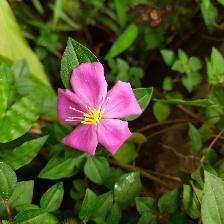malabar melastome: (54, 61, 145, 154)
